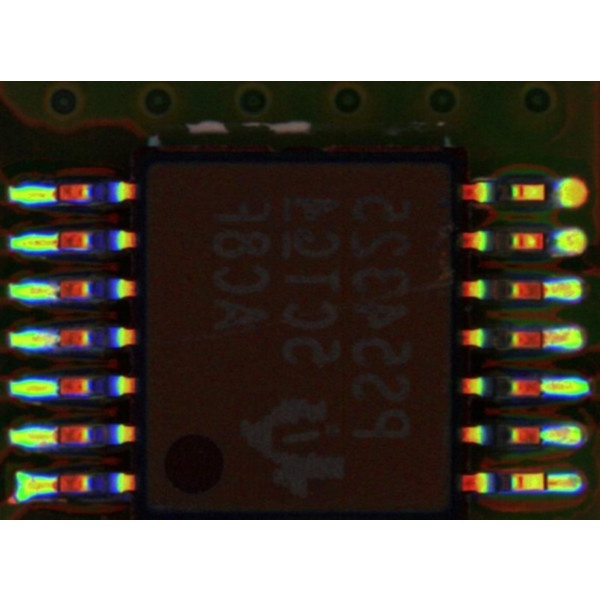Bad_podu: (38, 479, 72, 490), (41, 236, 66, 250), (539, 475, 556, 491), (533, 334, 554, 343)
